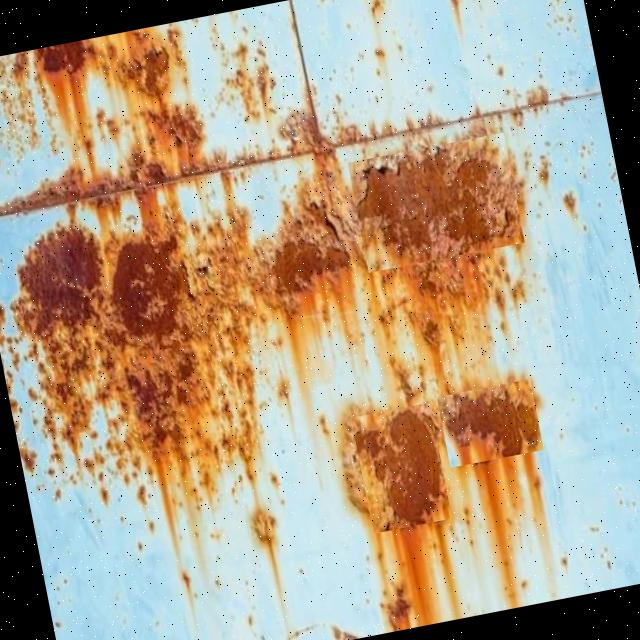Corrosion: (0, 0, 640, 640), (344, 128, 531, 276), (348, 402, 456, 535), (438, 374, 546, 468)
